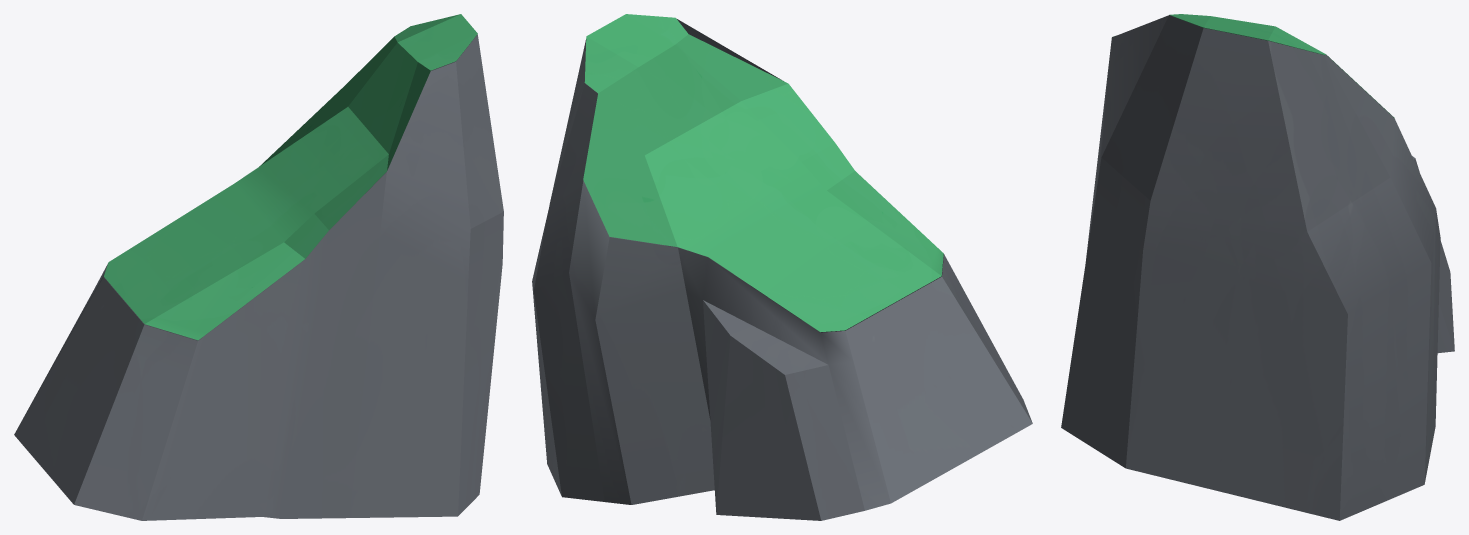
File: New LeftCliff.fbx
3 renders of one model, left to right at view 1: azimuth 30°, elevation 25°; view 2: azimuth 150°, elevation 25°; view 3: azimuth 270°, elevation 25°, orthographic. The views are drawn at different scales.
Parts seen in each view (by area): view 1: pCube18.002; view 2: pCube18.002; view 3: pCube18.002.
Boxes of the visible parts, box(x1,y1,x2,y2) form: pCube18.002: box(14, 14, 503, 520); pCube18.002: box(532, 14, 1032, 520); pCube18.002: box(1061, 14, 1454, 520).
Bounding box in the file's own units: 730 × 682 × 505.
